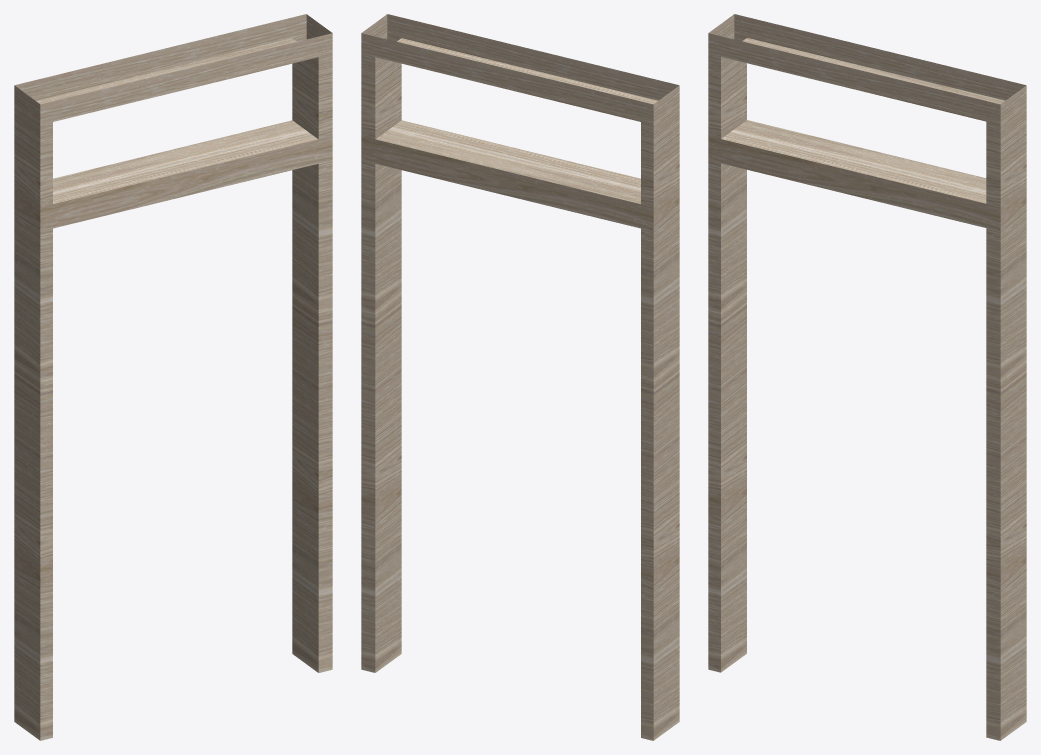
File: BUILDING_entranceDoorJamb_01.FBX
3 renders of one model, left to right at view 1: azimuth 30°, elevation 25°; view 2: azimuth 150°, elevation 25°; view 3: azimuth 330°, elevation 25°, orthographic.
Parts seen in each view (by area): view 1: BUILDING_entranceDoorJamb_01; view 2: BUILDING_entranceDoorJamb_01; view 3: BUILDING_entranceDoorJamb_01.
Part boxes in pixels (x1,y1,x2,y2): BUILDING_entranceDoorJamb_01: (14, 14, 332, 740); BUILDING_entranceDoorJamb_01: (361, 14, 679, 740); BUILDING_entranceDoorJamb_01: (708, 14, 1026, 740).
Size of the model in its own units: 170 by 354 by 26.4.
Materials: 1 (1 with a texture image).
